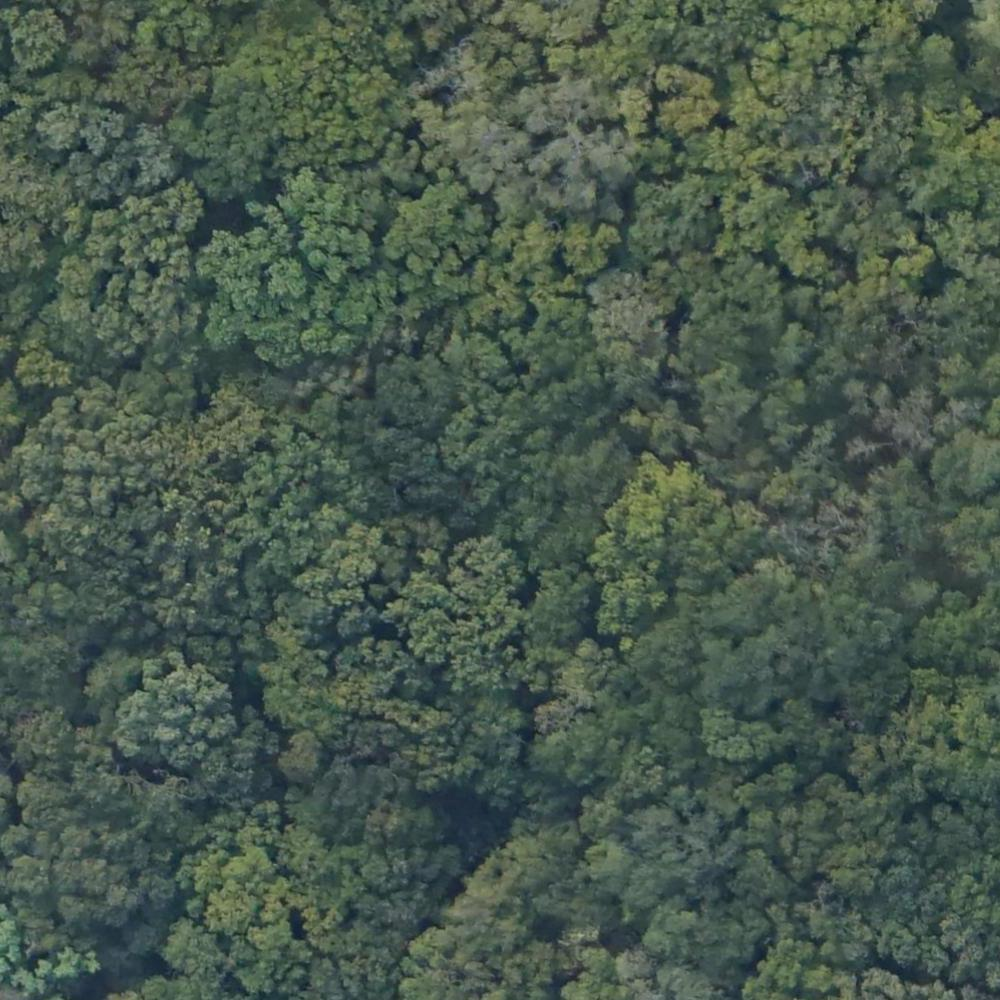tree: (127, 667, 227, 763), (540, 727, 620, 792), (928, 423, 1000, 495), (379, 354, 448, 428), (531, 565, 600, 633), (154, 921, 224, 981), (448, 538, 512, 602), (133, 1, 208, 53), (759, 471, 825, 526), (8, 8, 64, 72), (637, 618, 693, 682), (596, 278, 652, 338), (383, 134, 434, 196), (704, 364, 756, 424), (88, 301, 142, 357), (820, 837, 873, 894), (655, 87, 713, 138), (228, 843, 281, 897), (546, 71, 601, 122), (112, 368, 168, 418), (478, 117, 527, 168), (254, 325, 311, 368), (29, 104, 77, 155), (14, 708, 61, 760), (563, 222, 614, 269), (280, 731, 323, 786), (582, 838, 631, 886), (2, 859, 59, 900), (332, 277, 378, 323), (13, 343, 57, 388), (75, 105, 122, 146), (168, 185, 201, 237), (204, 300, 243, 341), (218, 258, 252, 298), (539, 41, 577, 76), (268, 257, 299, 297), (339, 554, 375, 587), (513, 44, 543, 73), (71, 39, 104, 64)
